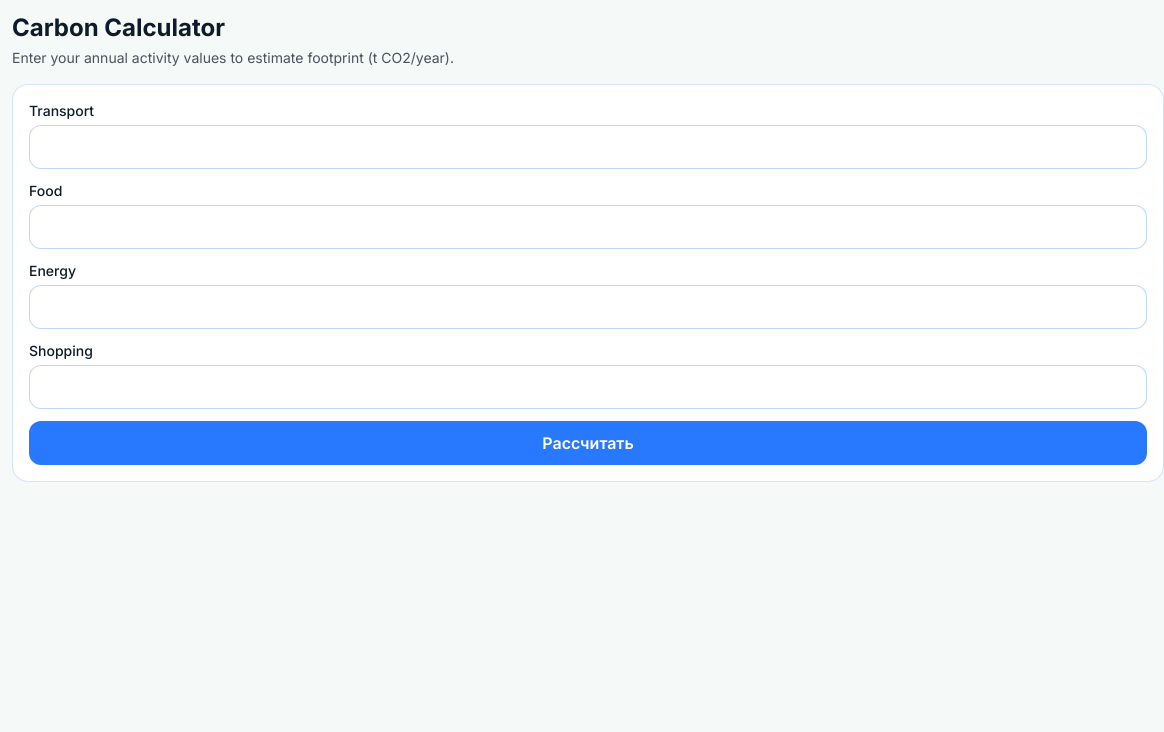
Scenario: Calculator › shows error for negative input
Type "-1" into the number field labelled "Energy".
click(588, 307); type("-1")  # box [29, 285, 1147, 329]
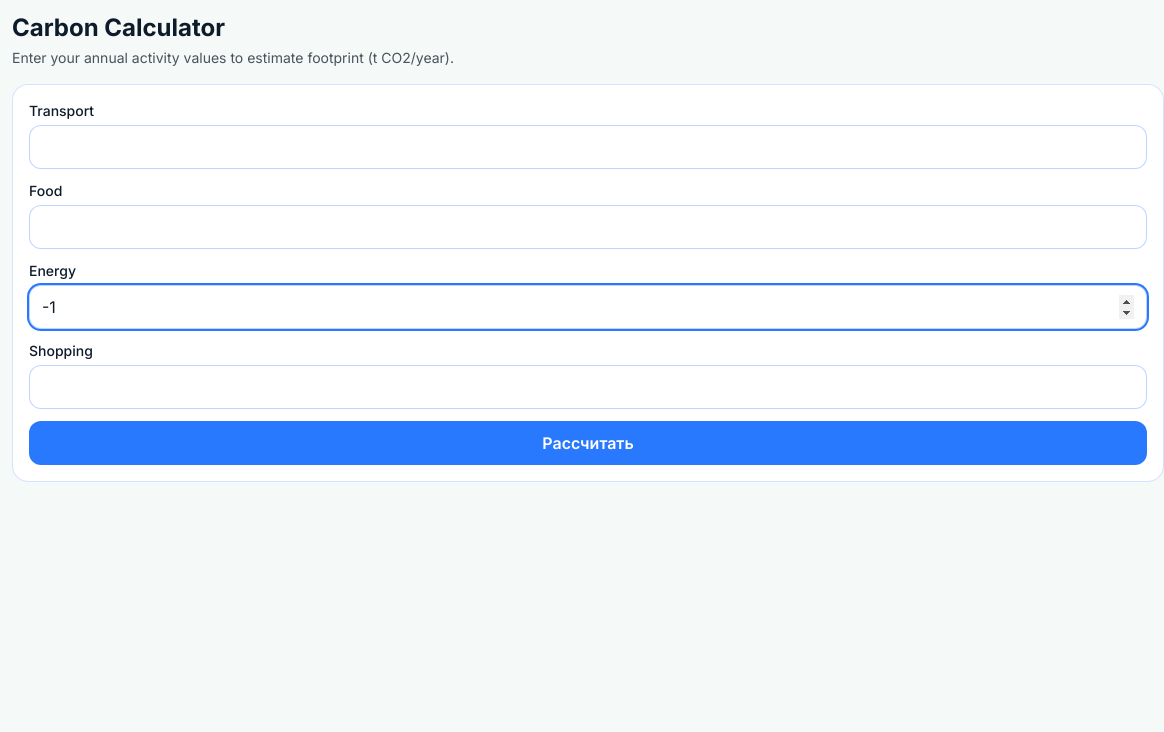
Click the button "Рассчитать".
click(588, 443)  # box [29, 421, 1147, 465]
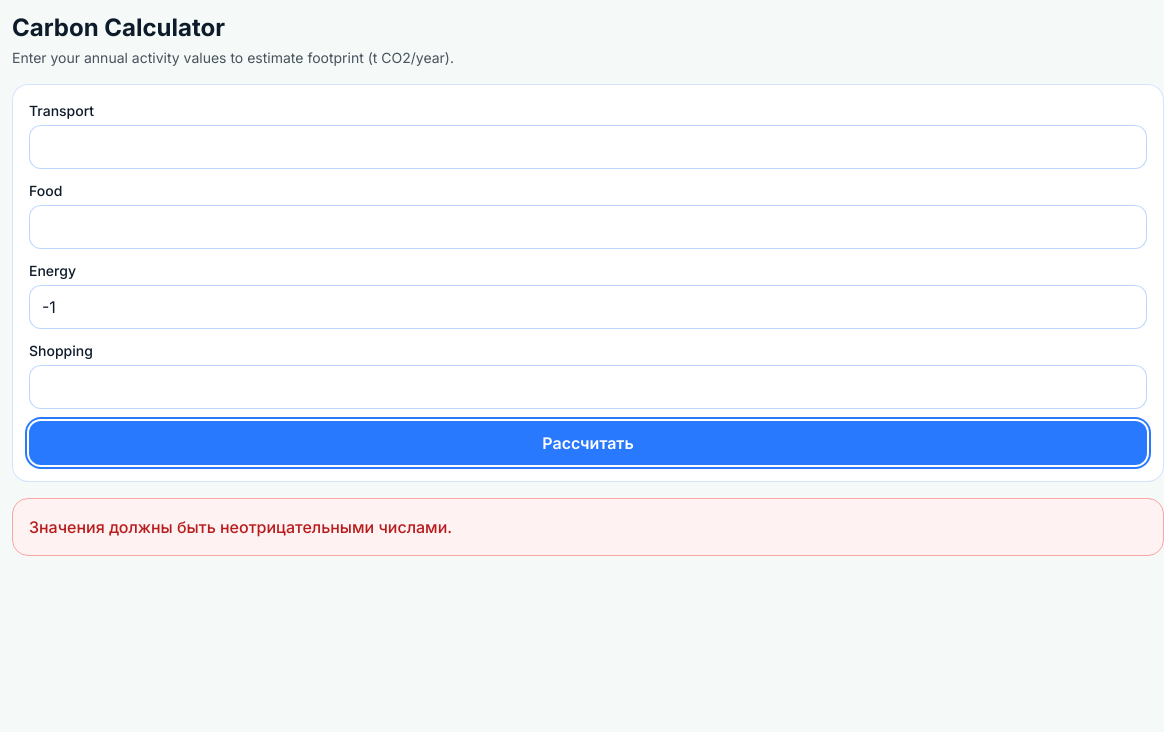
Result: the text "Значения должны быть неотрицательными числами." is shown at [29, 517, 452, 537]
